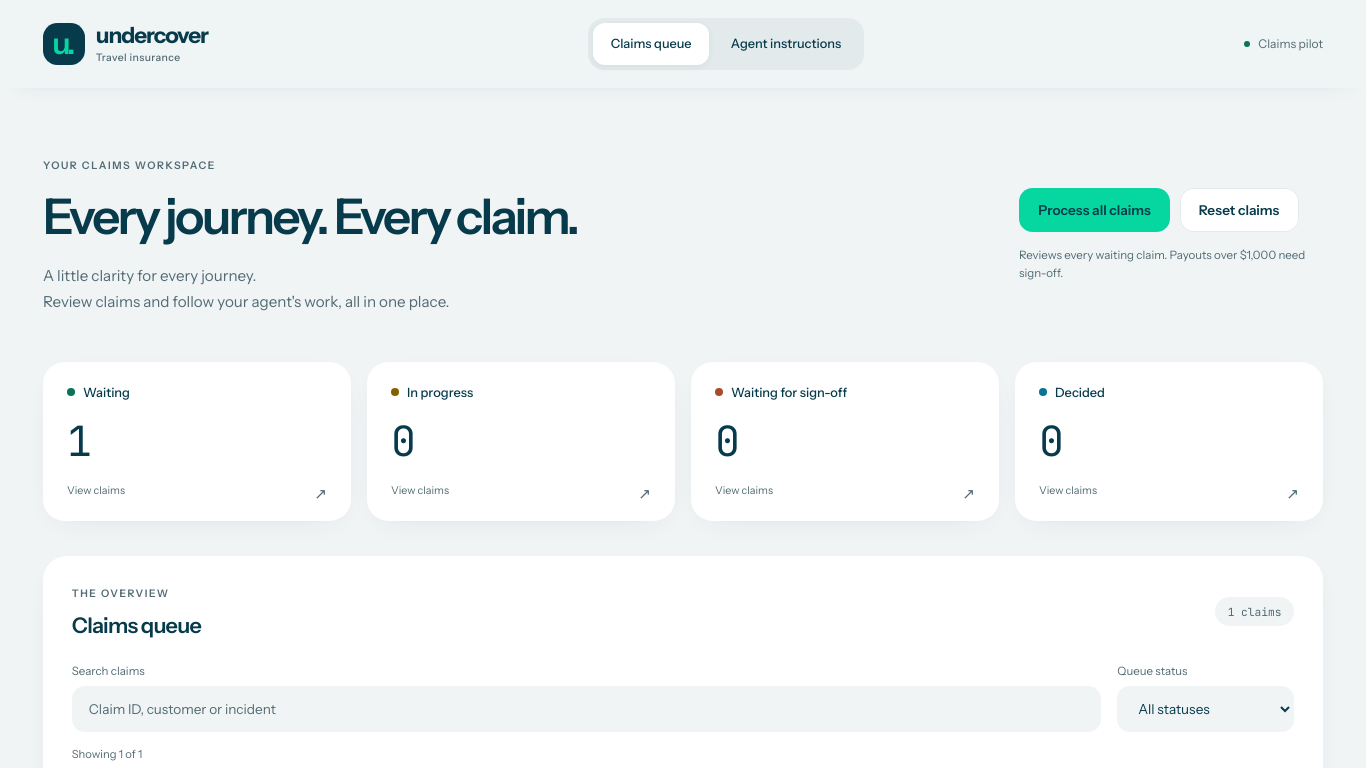
Test: processes the queue from one button
Click the button "Process all claims" at (1094,210), box [1019,188,1170,232]
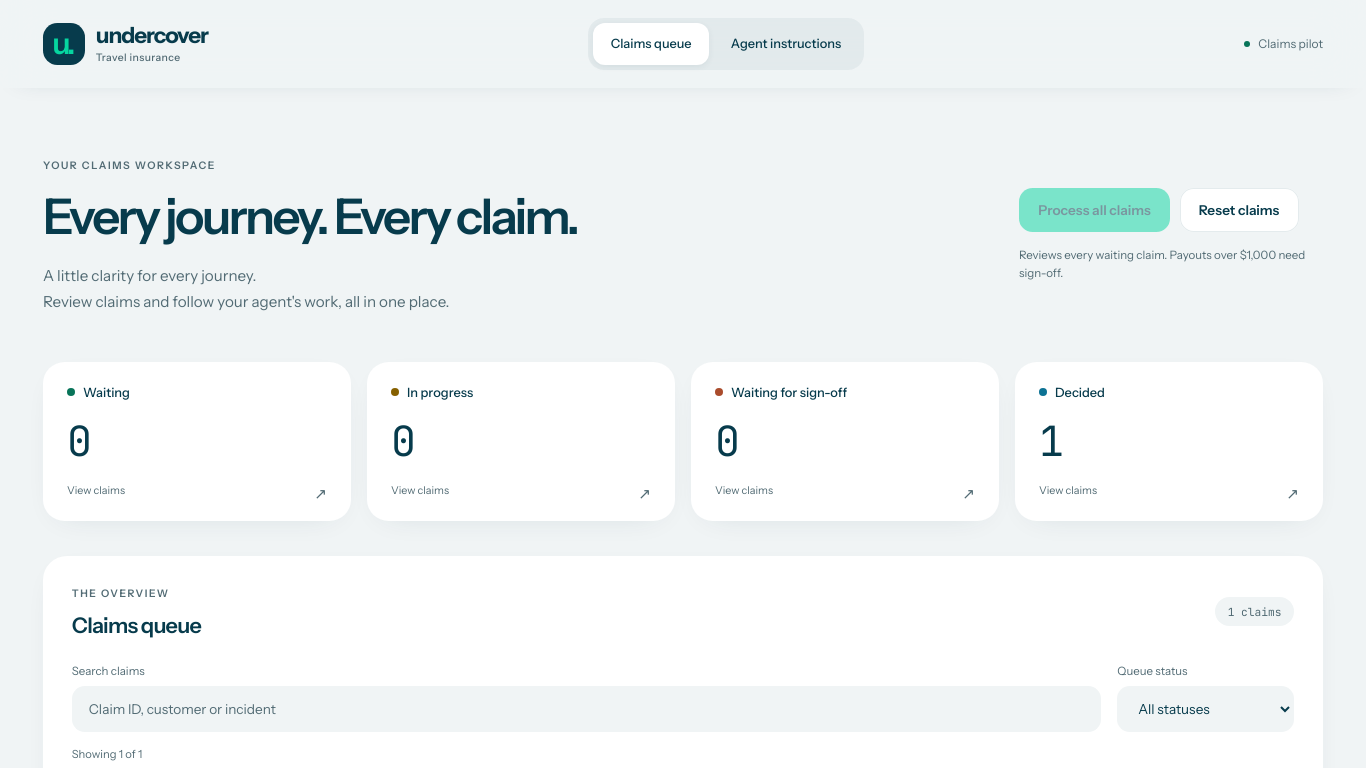
Expected: the button "Process all claims" is disabled, [1019,188,1170,232]
